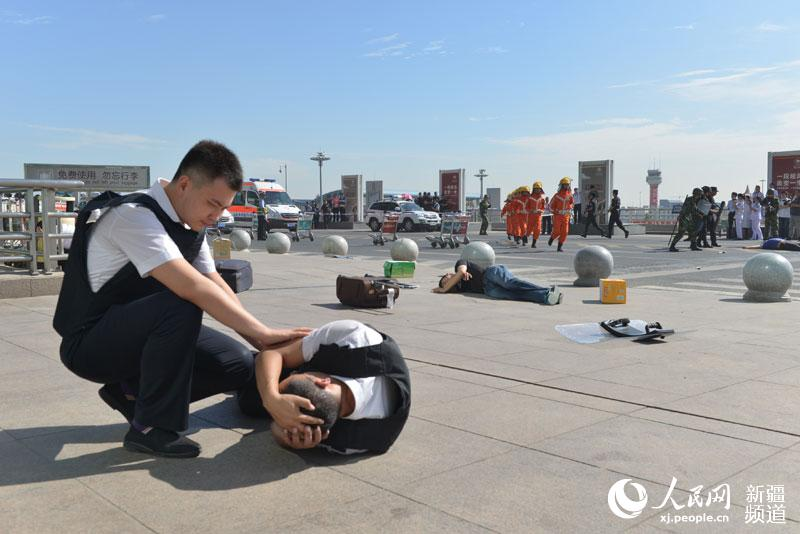10+: (41, 135, 800, 460)
down: (216, 310, 441, 477), (424, 255, 567, 318)
